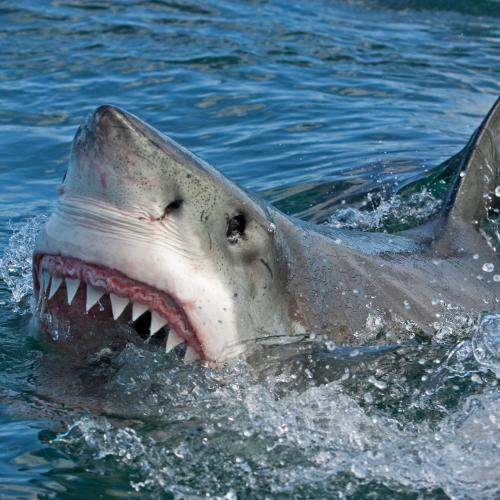shark-endangered: (12, 90, 391, 422)
